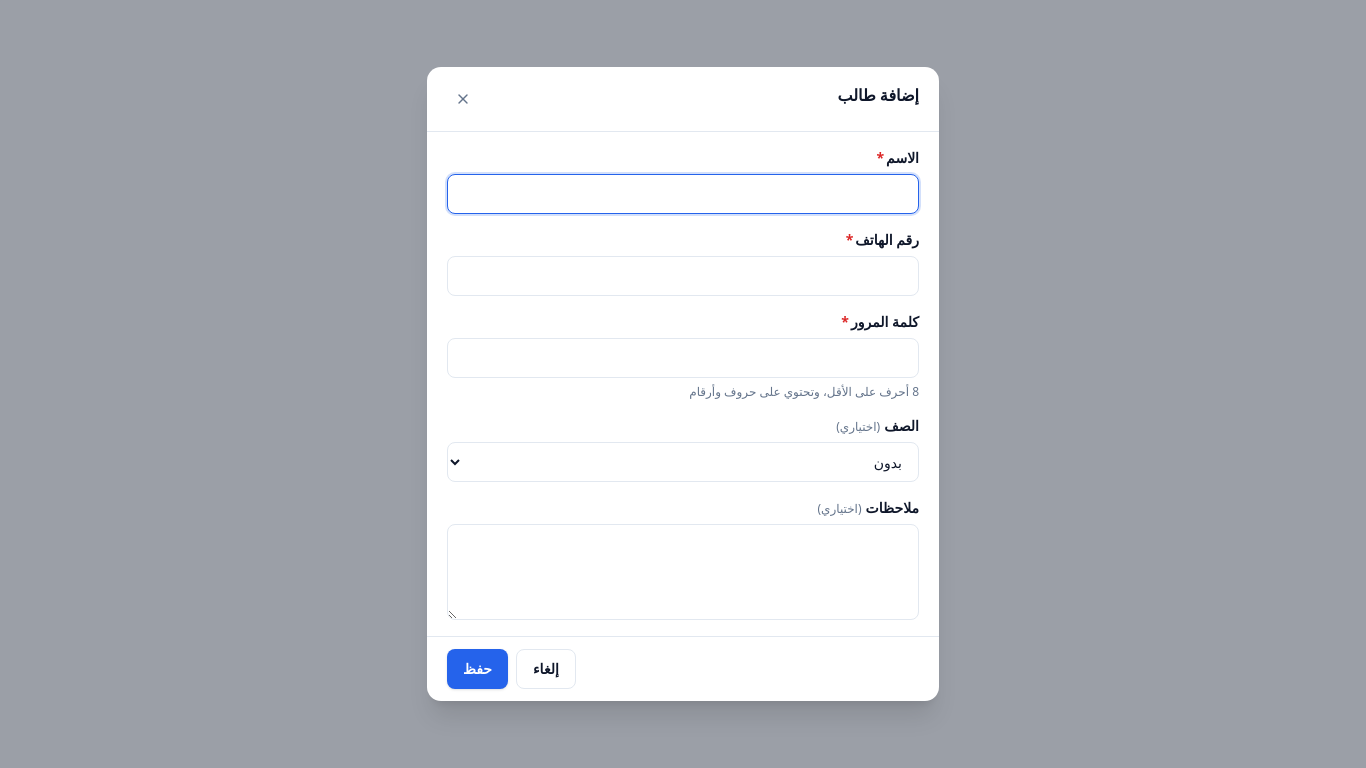
Scenario: student form › rejects weak passwords and invalid phones client-side
The image size is (1366, 768).
In the field labelled "الاسم*": [683, 194] box [447,174,919,214], type "سارة"
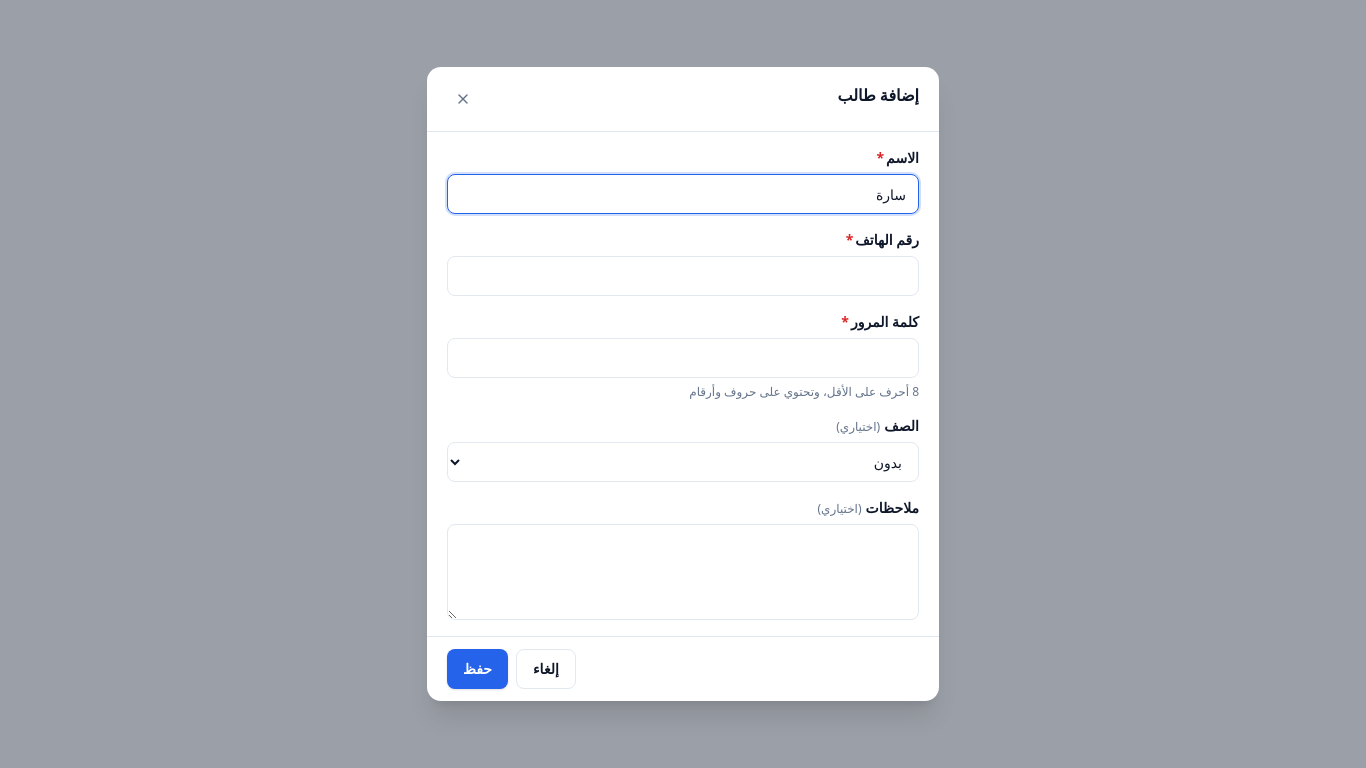
In the field labelled "رقم الهاتف*": [683, 276] box [447,256,919,296], type "123"
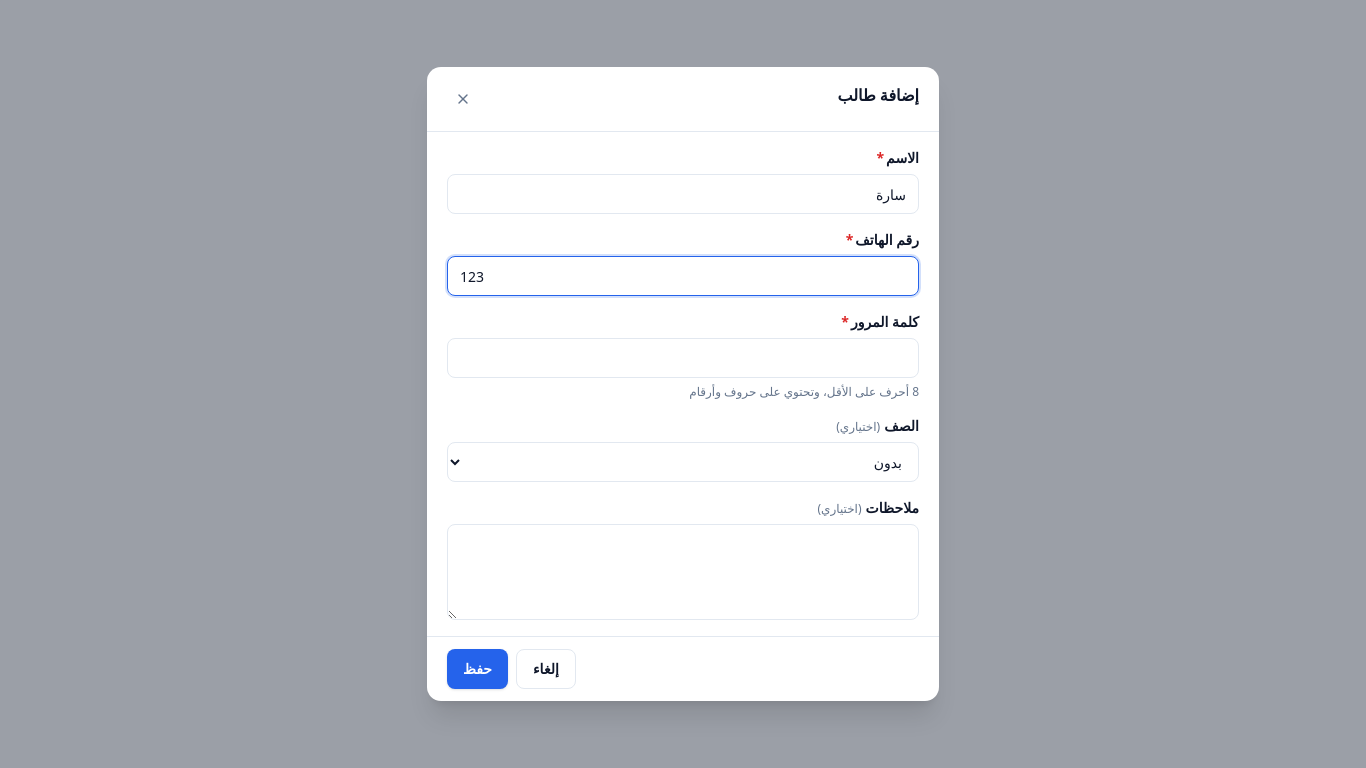
In the field labelled "كلمة المرور*": [683, 358] box [447,338,919,378], type "12345678"
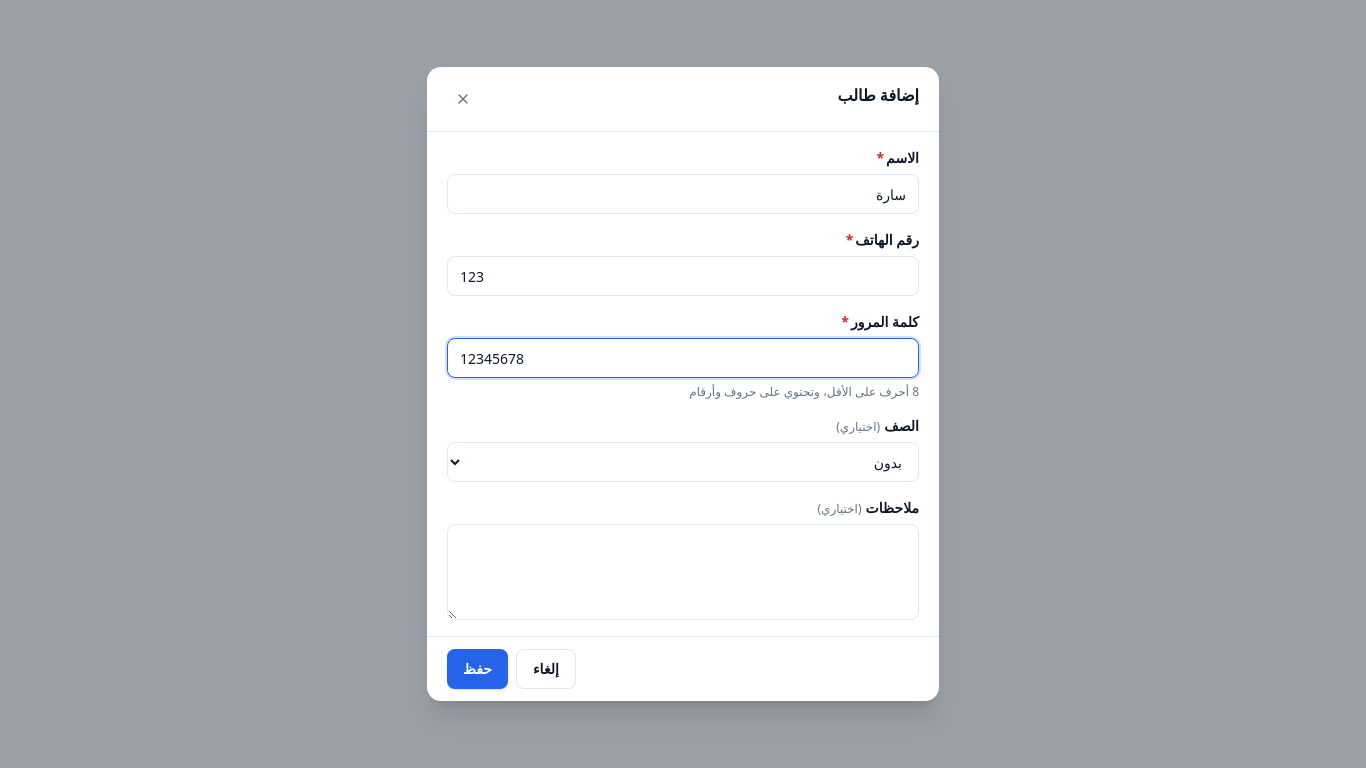
Click the button "حفظ": [478, 669] box [447,649,508,689]
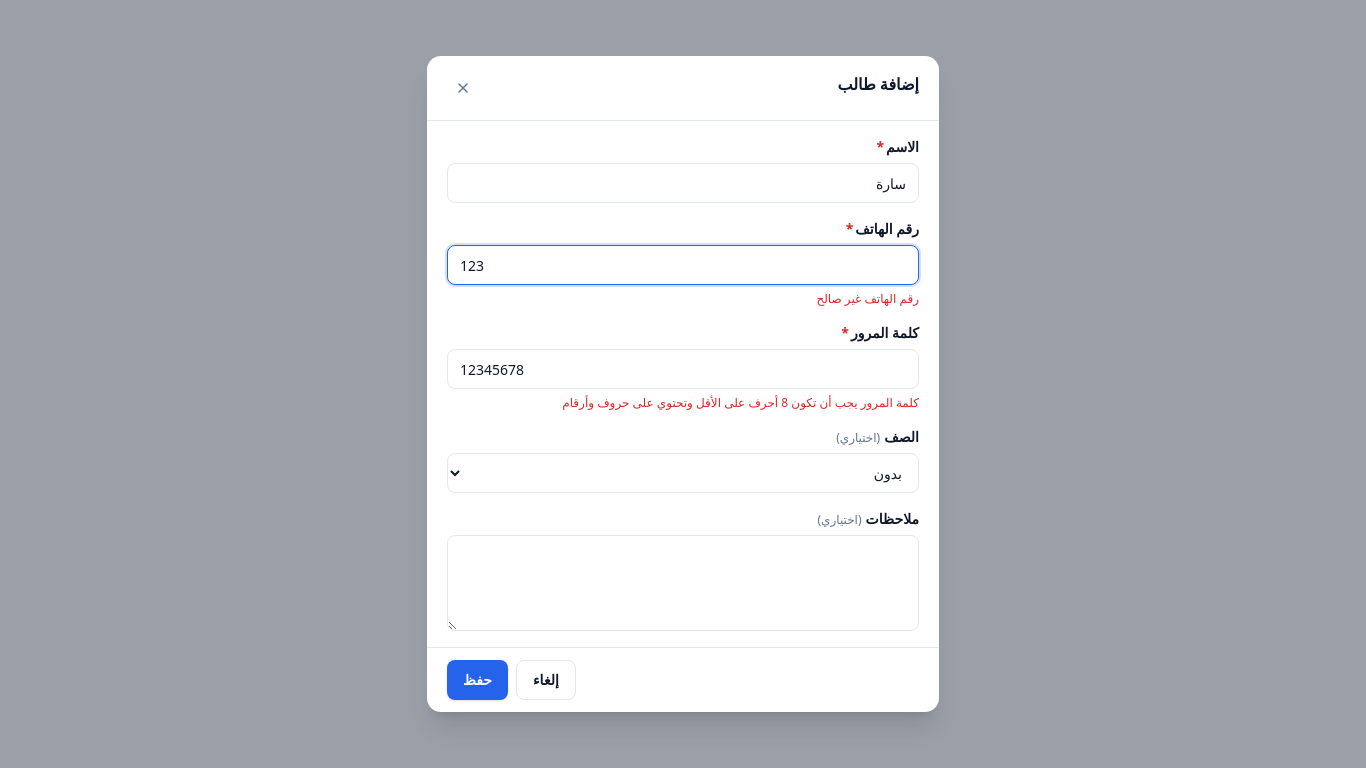
Check: the text "رقم الهاتف غير صالح" is shown, box [816,290,919,307]
Check: the text "كلمة المرور يجب أن تكون 8 أحرف على الأقل وتحتوي على حروف وأرقام" is shown, box [562,394,919,411]
